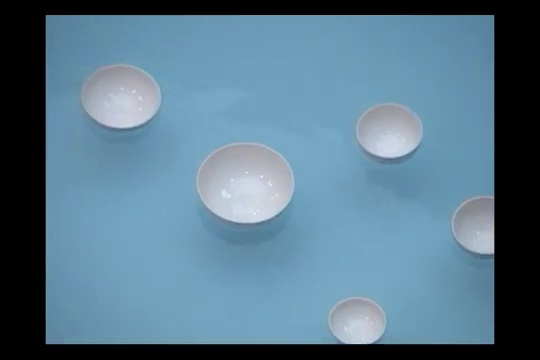bowl: (197, 143, 294, 229), (80, 63, 162, 136), (355, 103, 422, 165), (327, 296, 386, 343), (451, 196, 494, 259)
